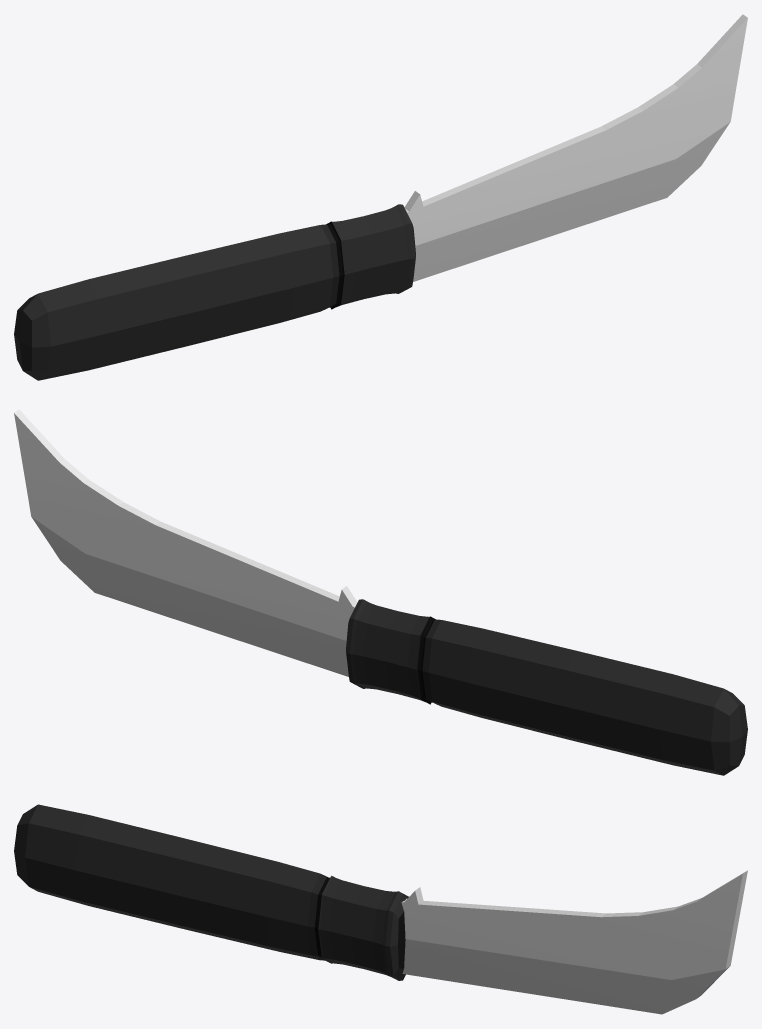
Rendered from DisplayKnifeModel.fbx.
3 views of the same model, one above another, from view 1: azimuth 30°, elevation 25°; view 2: azimuth 150°, elevation 25°; view 3: azimuth 330°, elevation 25° (orthographic).
Parts seen in each view (by area): view 1: DisplayKnifeModel; view 2: DisplayKnifeModel; view 3: DisplayKnifeModel.
Part boxes in pixels (left/top/right/bottom): DisplayKnifeModel: left=14, top=14, right=747, bottom=380; DisplayKnifeModel: left=14, top=409, right=747, bottom=775; DisplayKnifeModel: left=14, top=804, right=747, bottom=1014.
Size of the model in its own units: 45.78 by 11.7 by 2.96.
